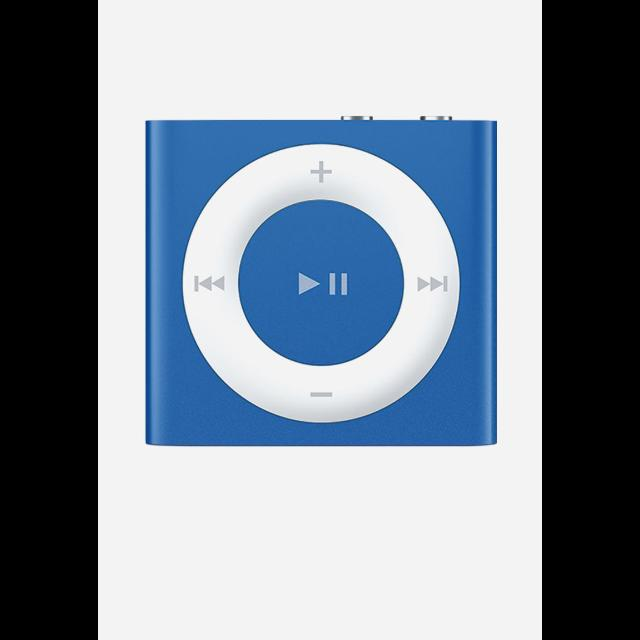Music-Player: (140, 103, 510, 459)
